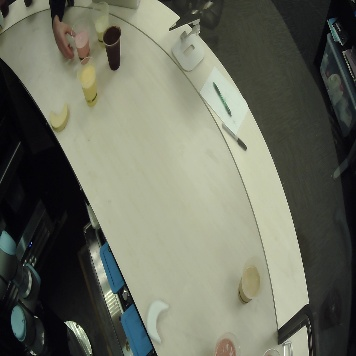full_cup: (236, 254, 267, 304), (76, 55, 99, 106), (101, 25, 122, 71), (70, 17, 91, 63), (91, 1, 110, 45), (212, 331, 240, 356)
puck: (145, 298, 169, 342), (49, 104, 70, 132)
